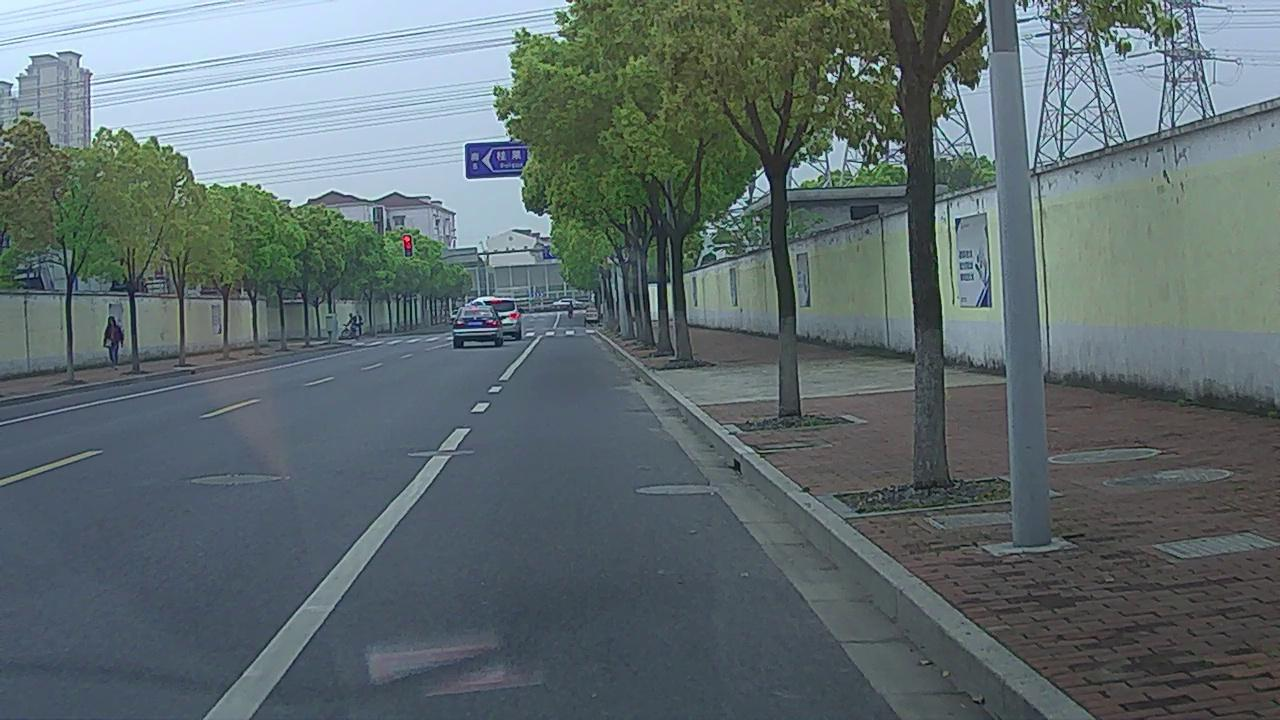traffic_light: (402, 236, 413, 256)
